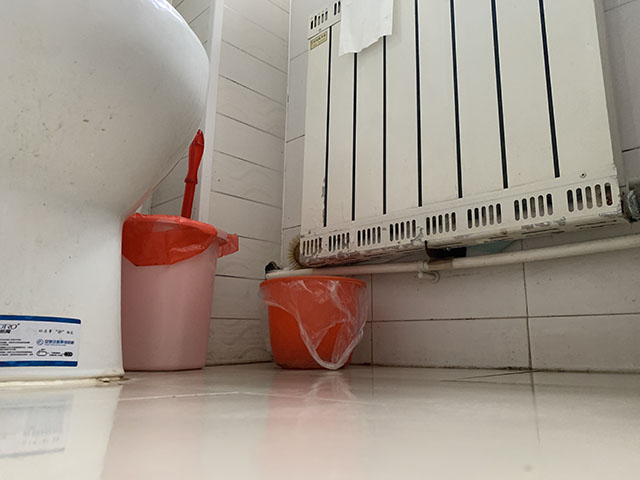closestool: (1, 1, 212, 384)
trashcan: (120, 211, 240, 373), (255, 275, 368, 370)
